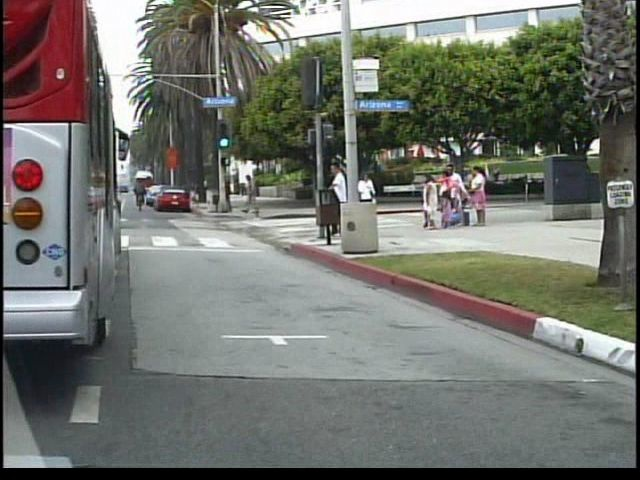person: (329, 159, 353, 239), (359, 167, 383, 229), (245, 169, 265, 214)
